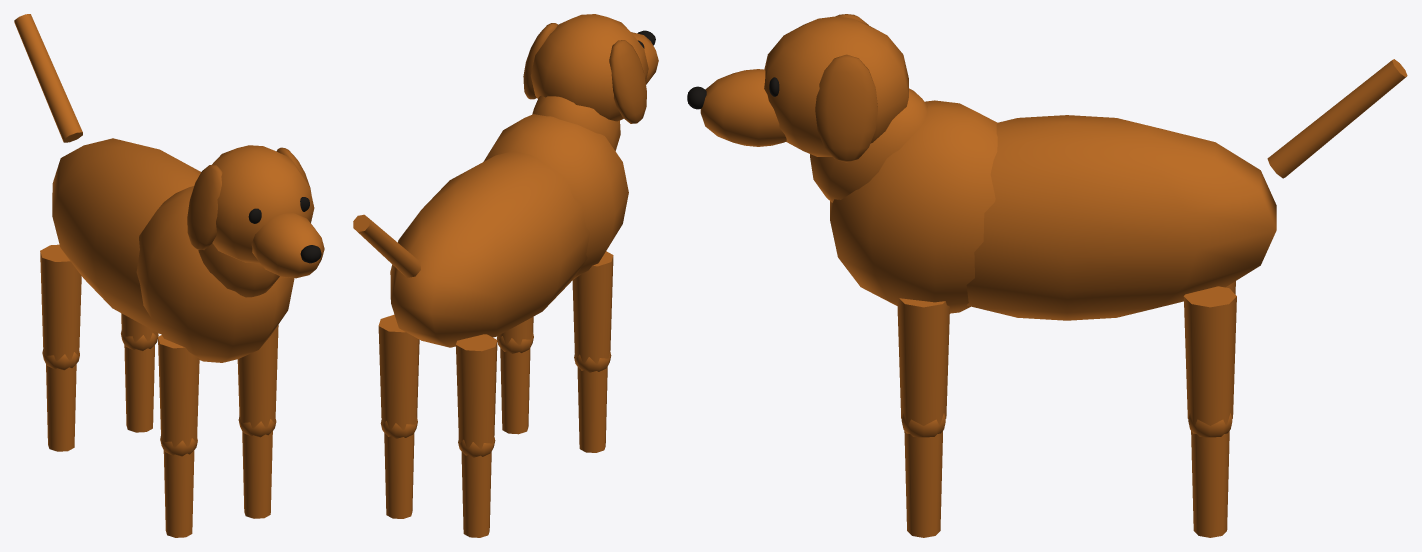
File: perro.glb
The picture shows the model from 3 angles, left to right: view 1: azimuth 30°, elevation 25°; view 2: azimuth 150°, elevation 25°; view 3: azimuth 270°, elevation 25°; orthographic projection. The views are drawn at different scales.
Parts seen in each view (by area): view 1: perro, object 7, object 3, object 9, object 5, object 4, object 8, object 6, object 2; view 2: perro, object 5, object 3, object 7, object 9, object 4, object 2, object 8, object 6; view 3: perro, object 5, object 9.
Boxes of the visible parts, bbox=[...] form: perro: bbox=[14, 14, 324, 447]; object 7: bbox=[163, 450, 194, 537]; object 3: bbox=[46, 364, 76, 451]; object 9: bbox=[242, 431, 272, 518]; object 5: bbox=[124, 345, 154, 432]; object 4: bbox=[121, 329, 158, 350]; object 8: bbox=[238, 415, 276, 437]; object 6: bbox=[160, 434, 197, 456]; object 2: bbox=[42, 348, 79, 370]; perro: bbox=[353, 14, 658, 448]; object 5: bbox=[384, 432, 414, 518]; object 3: bbox=[461, 451, 491, 537]; object 7: bbox=[577, 366, 607, 452]; object 9: bbox=[500, 348, 530, 434]; object 4: bbox=[380, 417, 417, 438]; object 2: bbox=[458, 435, 495, 457]; object 8: bbox=[497, 332, 533, 353]; object 6: bbox=[574, 350, 611, 372]; perro: bbox=[687, 14, 1407, 425]; object 5: bbox=[1191, 431, 1229, 537]; object 9: bbox=[904, 431, 942, 537].
Size of the model in its own units: 0.34 by 0.97 by 1.31.
